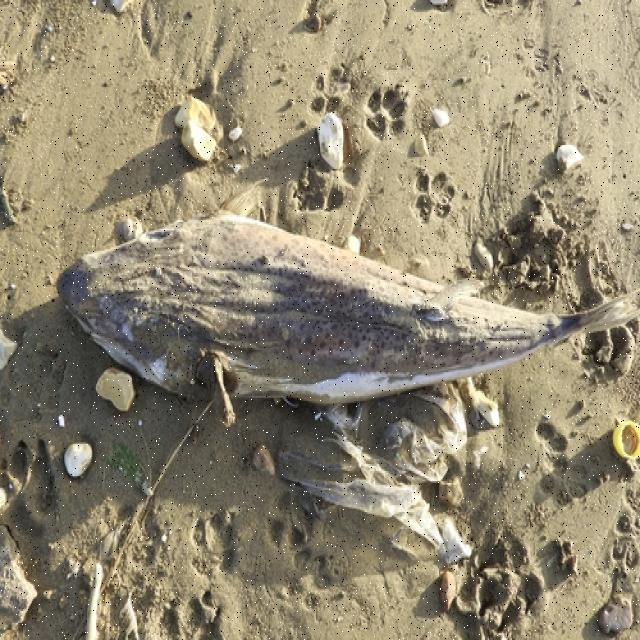Balik: (58, 216, 639, 402)
